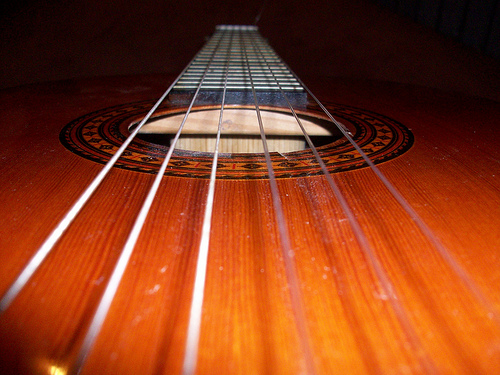guitar: (1, 17, 500, 375)
